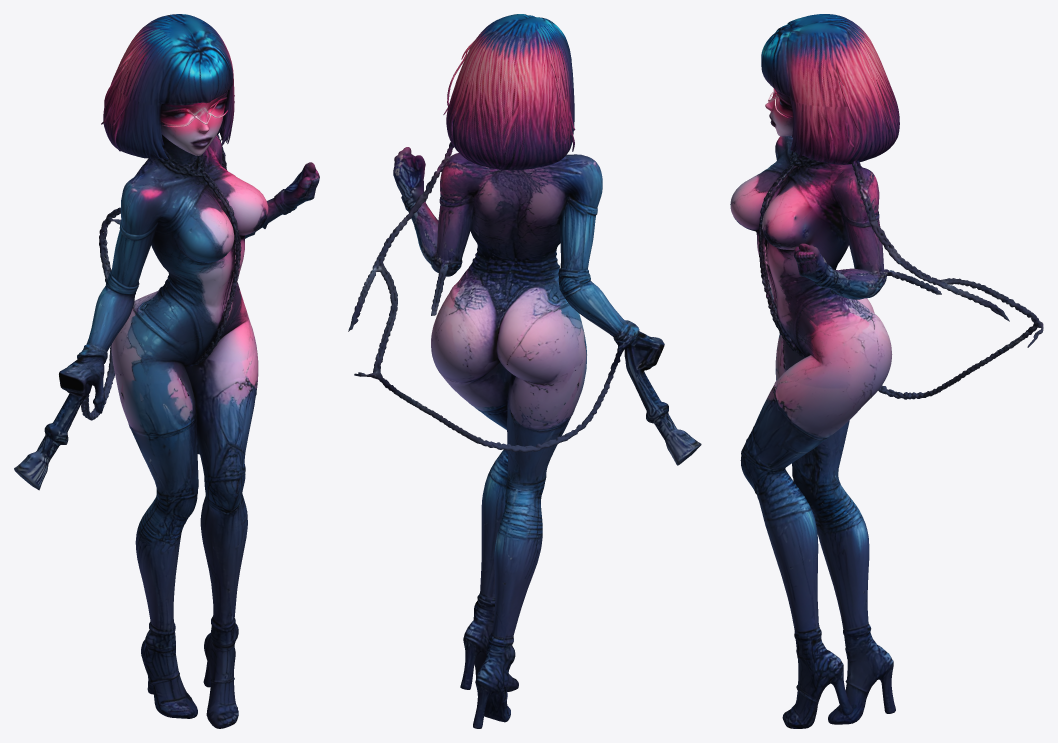
File: girl-39.glb
3 views of the same model, side by side, from view 1: azimuth 30°, elevation 25°; view 2: azimuth 150°, elevation 25°; view 3: azimuth 270°, elevation 25° (orthographic). The views are drawn at different scales.
Parts seen in each view (by area): view 1: node_0; view 2: node_0; view 3: node_0.
Boxes of the visible parts, <box> form: node_0: <box>14,14,319,728</box>; node_0: <box>348,14,701,728</box>; node_0: <box>730,14,1043,728</box>.
Bounding box in the file's own units: 0.5253 × 1.16 × 0.4751.
Materials: 1 (1 with a texture image).
